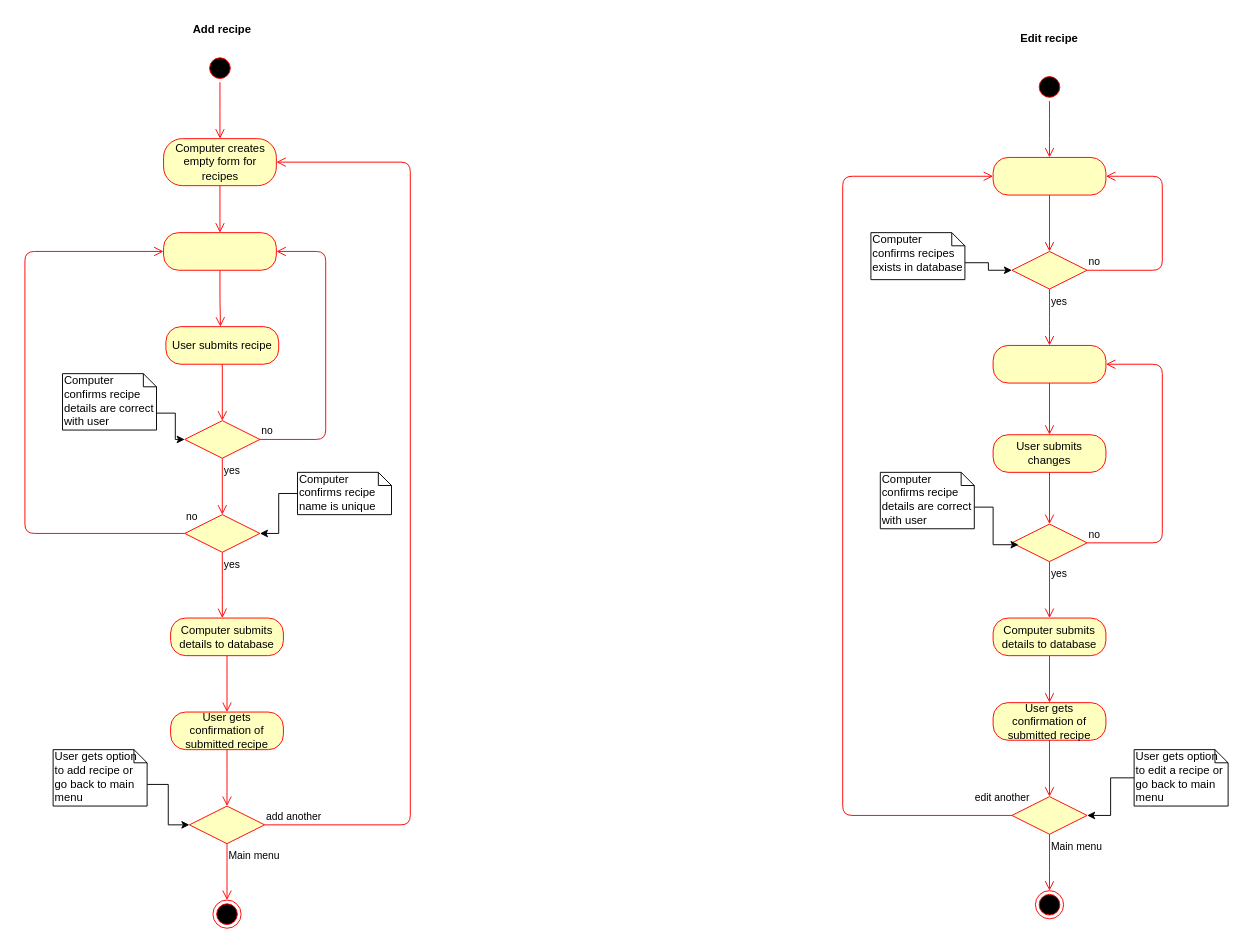
The diagram is 1245 pixels wide and 945 high, and some of its shapes have lost their labels. Here are the shapes that lost their labels. From the top down, the box of each, then its label:
(992, 157, 1106, 195): User enters recipe name to edit
(163, 232, 276, 270): User Enters details
(992, 345, 1106, 383): User makes changes to recipe
